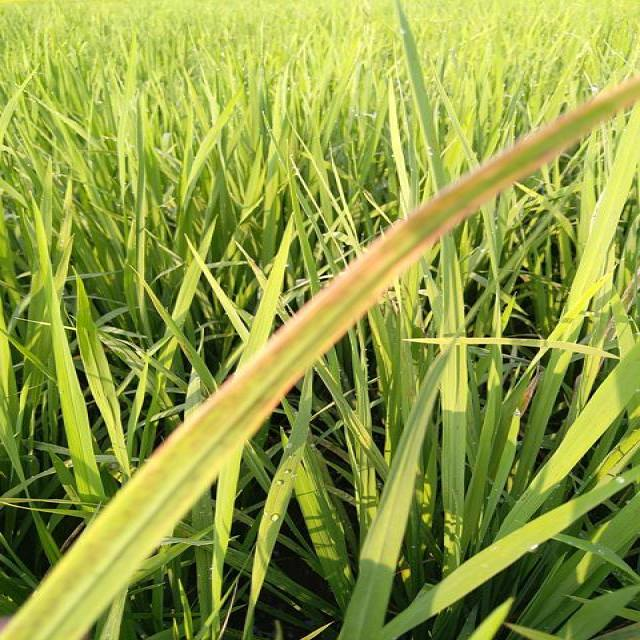Leaf Streak: (0, 76, 639, 639)
